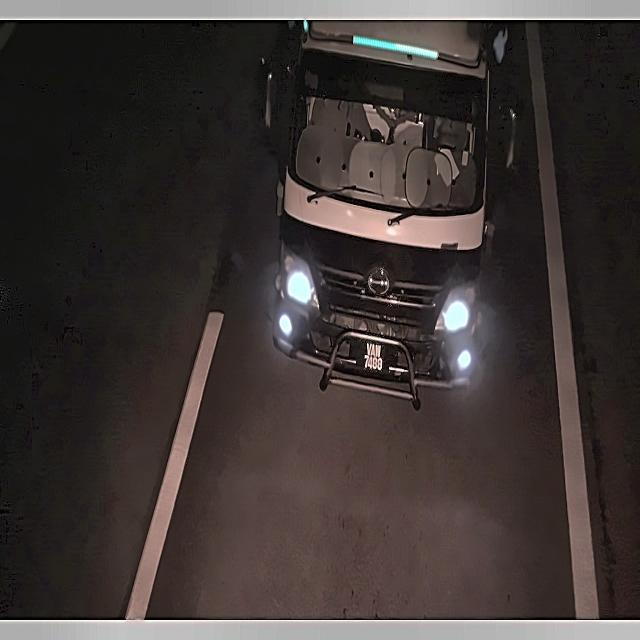car: (350, 334, 400, 379)
